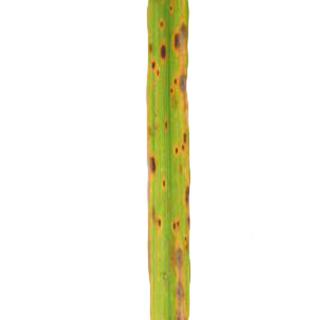bercak-Cokelat: (155, 20, 169, 66), (170, 132, 190, 158), (149, 203, 163, 239), (146, 152, 158, 176), (184, 179, 192, 210), (170, 215, 180, 233), (163, 114, 171, 130), (161, 176, 167, 192)
